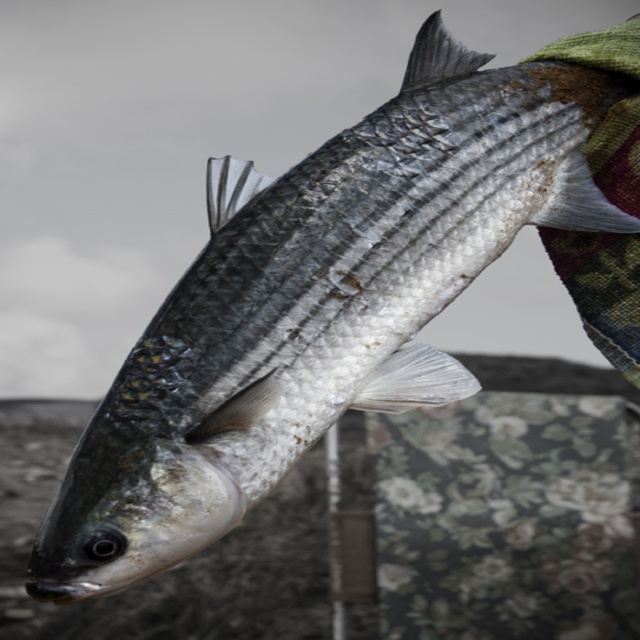Fish: (26, 9, 640, 606)
